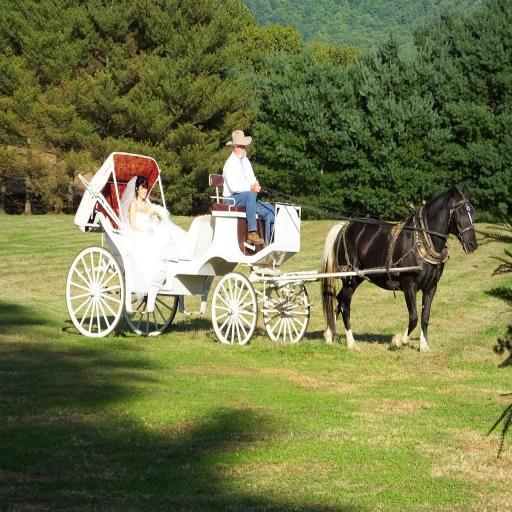horse: (320, 182, 480, 350)
